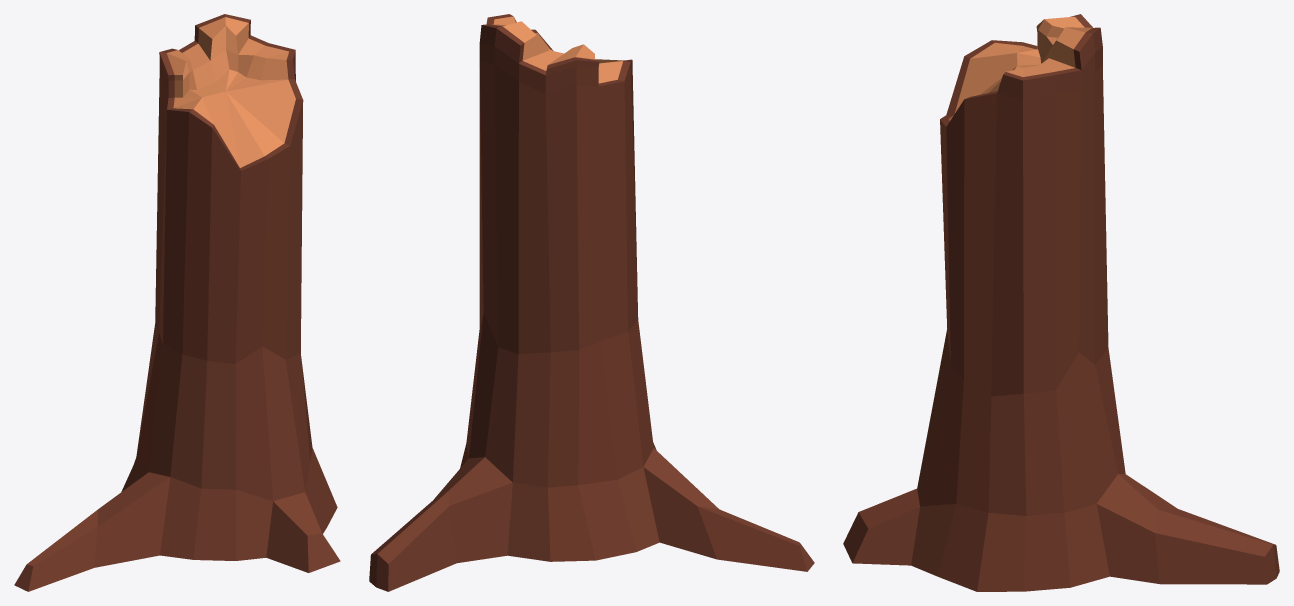
File: pine_trunk_type_8_LOD0.fbx
The picture shows the model from 3 angles, left to right: view 1: azimuth 30°, elevation 25°; view 2: azimuth 150°, elevation 25°; view 3: azimuth 270°, elevation 25°; orthographic projection. The views are drawn at different scales.
Visible parts, largest first — view 1: pt_type_8; view 2: pt_type_8; view 3: pt_type_8.
Boxes of the visible parts, bbox=[...] form: pt_type_8: bbox=[14, 14, 340, 591]; pt_type_8: bbox=[369, 14, 814, 591]; pt_type_8: bbox=[843, 14, 1279, 591].
Size of the model in its own units: 264 by 388 by 287.
